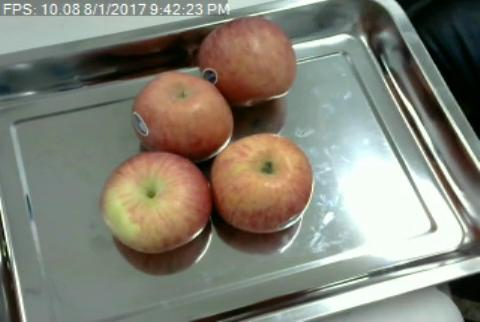apple: (99, 153, 212, 253), (212, 134, 315, 232), (133, 73, 232, 153), (201, 18, 298, 96)
